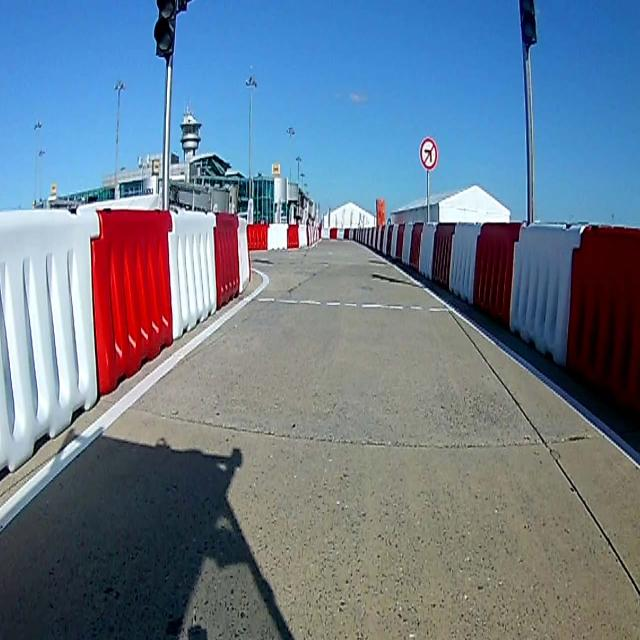soladonulmez: (419, 137, 438, 171)
